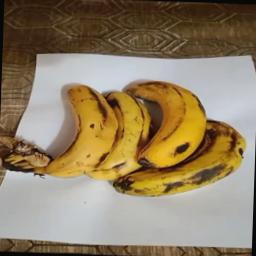Banana Unripe: (38, 68, 124, 180), (128, 78, 206, 166), (100, 78, 154, 184)
